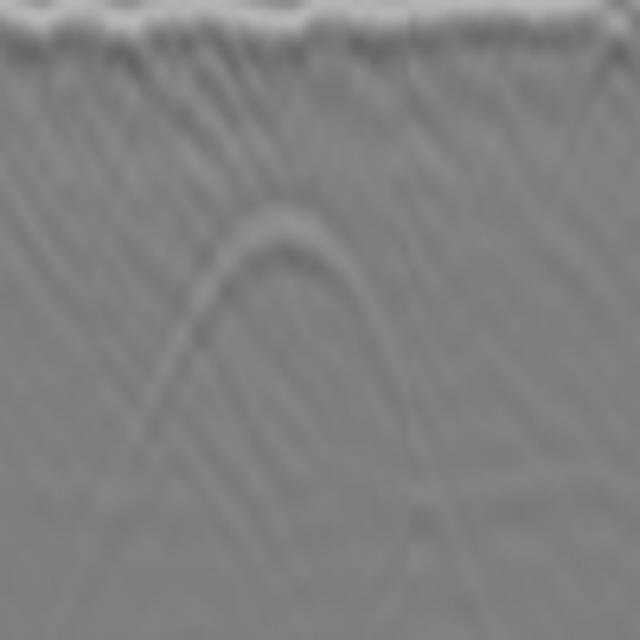hyperbola: (153, 192, 406, 407)
